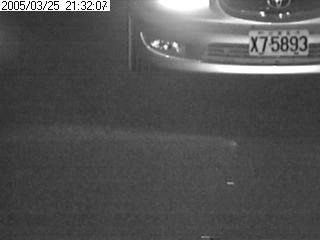plate: (246, 28, 310, 59)
